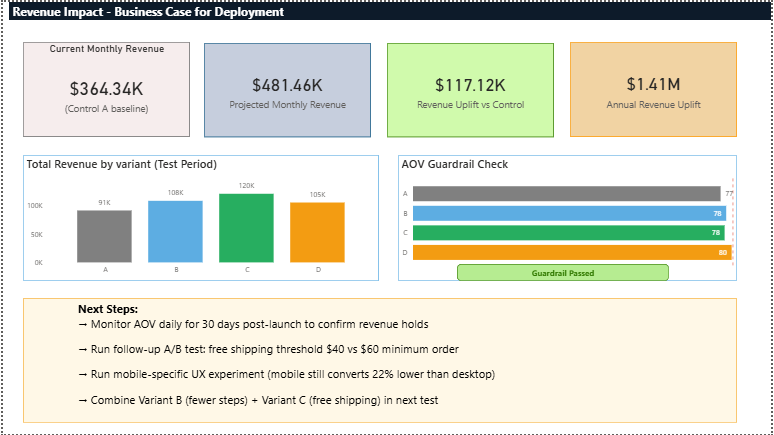

Layout of this report page (visuals, bound fields, positions):
{"tool":"powerbi","page":{"name":"Revenue impact","canvas":[1280,720],"ordinal":3},"visuals":[{"type":"clusteredColumnChart","title":"Total Revenue by variant (Test Period)","fields":{"Category":["checkout_ab_test_data.variant"],"Y":["Measures (2).Total Revenue"]},"box":[33.3,255,593.3,210],"z":0},{"type":"shape","box":[33.3,493.3,1190,208.3],"z":1000},{"type":"textbox","box":[120,493.3,936.7,208.3],"z":2000},{"type":"shape","box":[10,0,1270,30],"z":3000},{"type":"card","title":"Current Monthly Revenue","fields":{"Values":["Measures (2).Projected Monthly Revenue"]},"box":[33.3,66.7,278.3,158.3],"z":4000},{"type":"card","fields":{"Values":["Measures (2).Revenue Uplift vs Control"]},"box":[640,68.3,278.3,156.7],"z":5000},{"type":"card","fields":{"Values":["Measures (2).Projected Monthly Revenue"]},"box":[335,68.3,278.3,156.7],"z":6000},{"type":"card","fields":{"Values":["Measures (2).Annual Revenue Uplift"]},"box":[945,66.7,278.3,158.3],"z":7000},{"type":"clusteredBarChart","title":"AOV Guardrail Check","fields":{"Category":["checkout_ab_test_data.variant"],"Y":["Measures (2).AOV"]},"box":[658.3,255,565,210],"z":8000},{"type":"shape","box":[756.7,436.7,353.3,28.3],"z":9000}]}

Visuals, with their boxes in screenshot pixels (x1, y1, x2, y2), scaled from the page's 1280x720 canvas onto the 774x435 screenshot:
"Total Revenue by variant (Test Period)" clusteredColumnChart: [20,154,379,281]
shape: [20,298,740,424]
textbox: [73,298,639,424]
shape: [6,0,773,18]
"Current Monthly Revenue" card: [20,40,188,136]
card - Measures (2).Revenue Uplift vs Control: [387,41,555,136]
card - Measures (2).Projected Monthly Revenue: [203,41,371,136]
card - Measures (2).Annual Revenue Uplift: [571,40,740,136]
"AOV Guardrail Check" clusteredBarChart: [398,154,740,281]
shape: [458,264,671,281]
